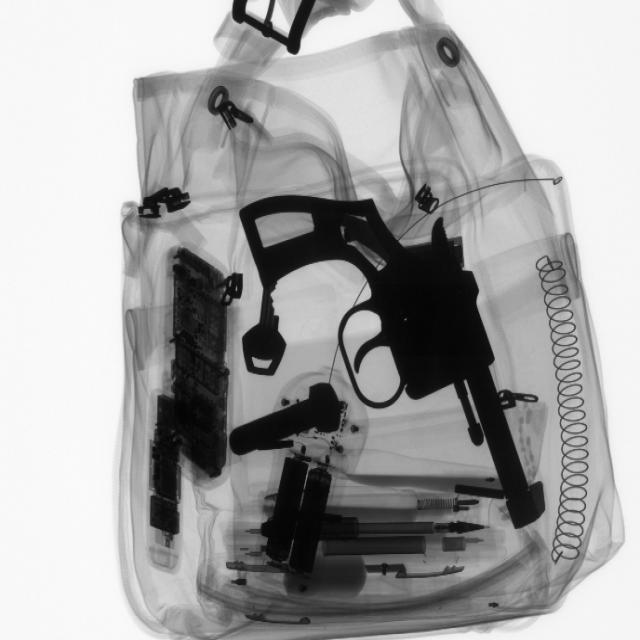GUN: (234, 192, 543, 525)
